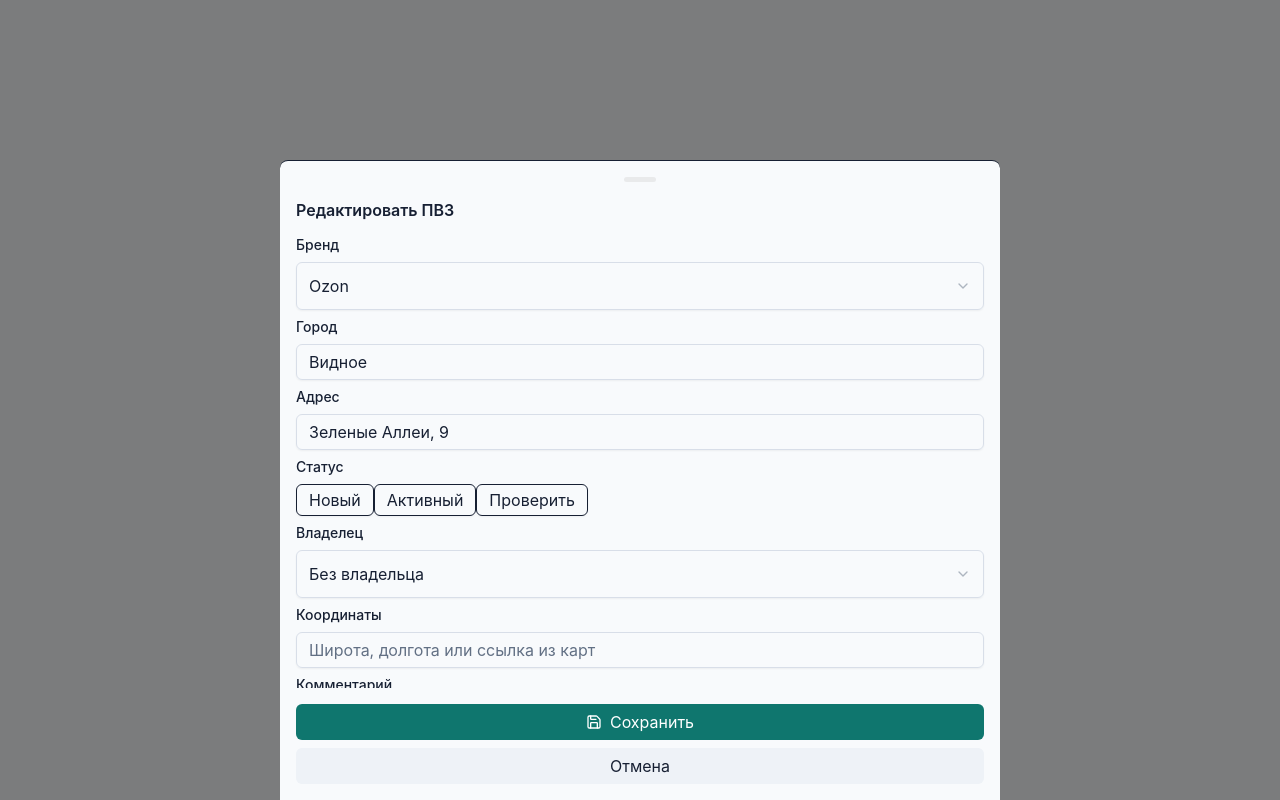
Test: PointActionDialogs edit flow › does not save an invalid coordinate patch
In the field labelled "Координаты": (640, 650) [296, 632, 984, 668], type "100, 37.123"
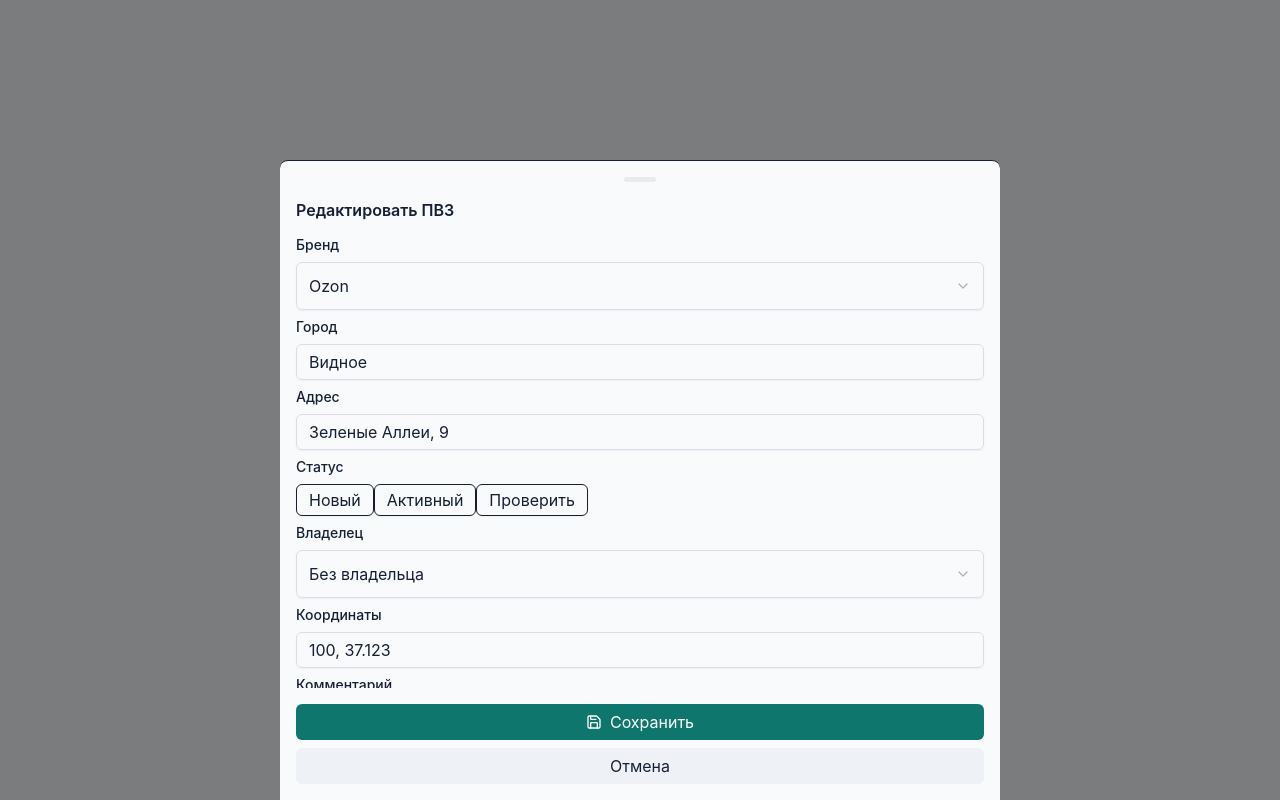
Click the button "Сохранить": (640, 722) [296, 704, 984, 740]
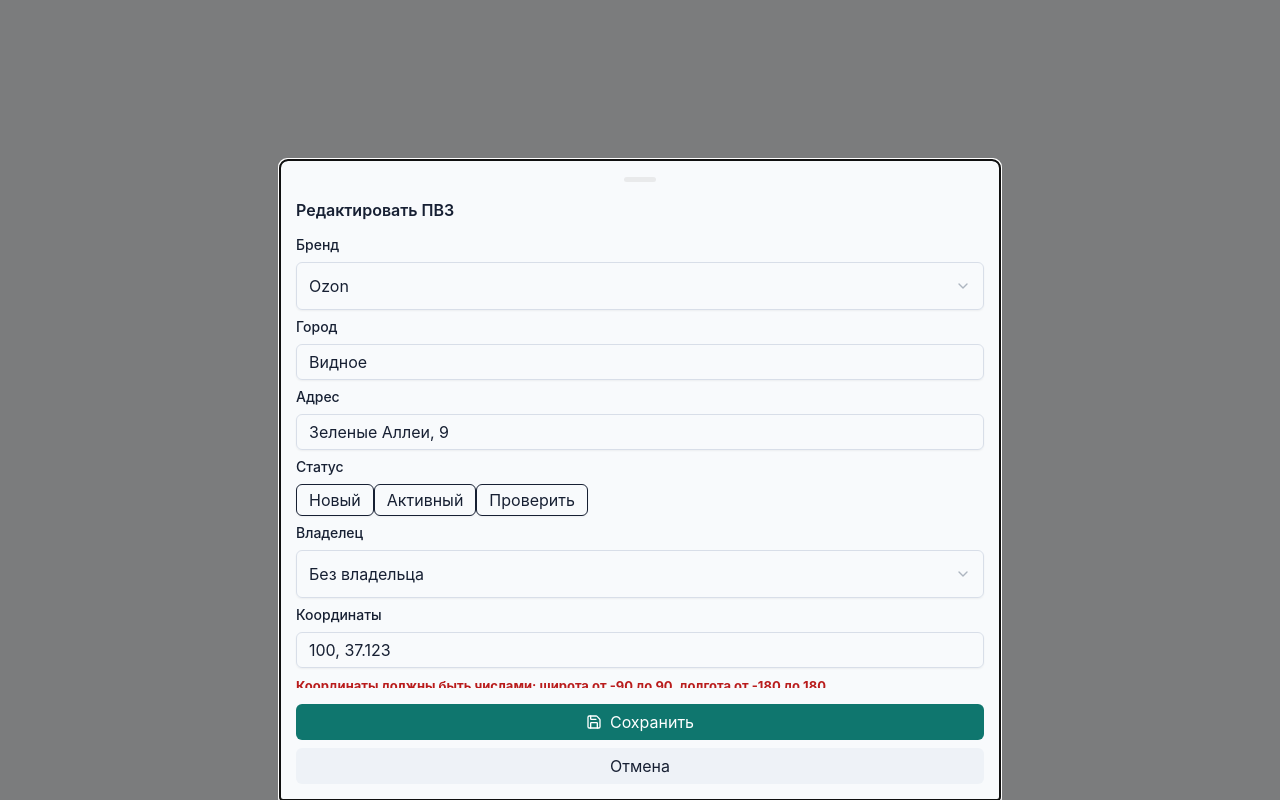
Now the text "Координаты должны быть числами: широта от -90 до 90, долгота от -180 до 180." is shown, box [296, 678, 830, 688]
